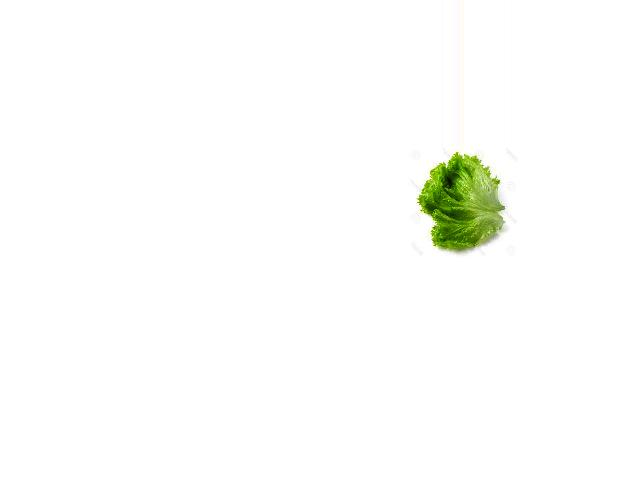lettuce: (421, 150, 506, 258)
